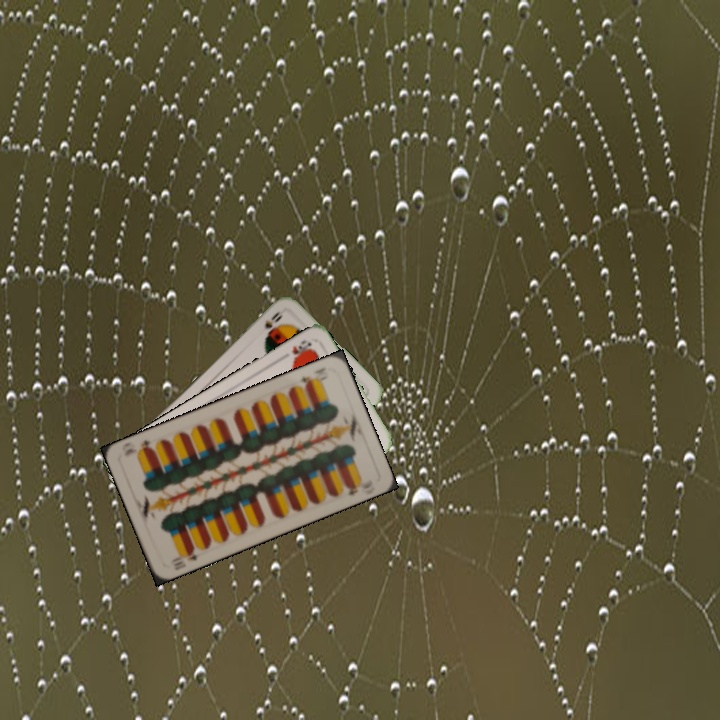E10: (170, 544, 201, 573), (296, 370, 321, 390)
HO: (287, 335, 315, 364)
SO: (261, 307, 287, 332)
